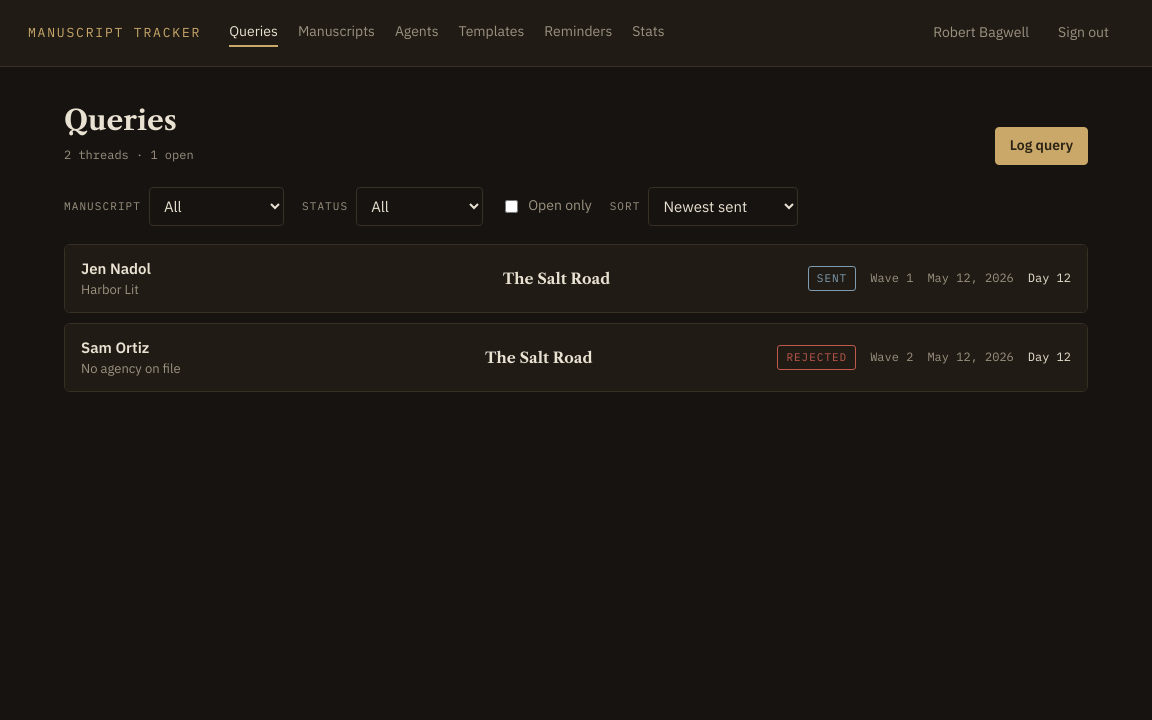
QueriesPage › expands a thread into its correspondence log
This screenshot has width=1152, height=720.
Click the button "Jen Nadol" at (576, 278), box [65,245,1087,312]
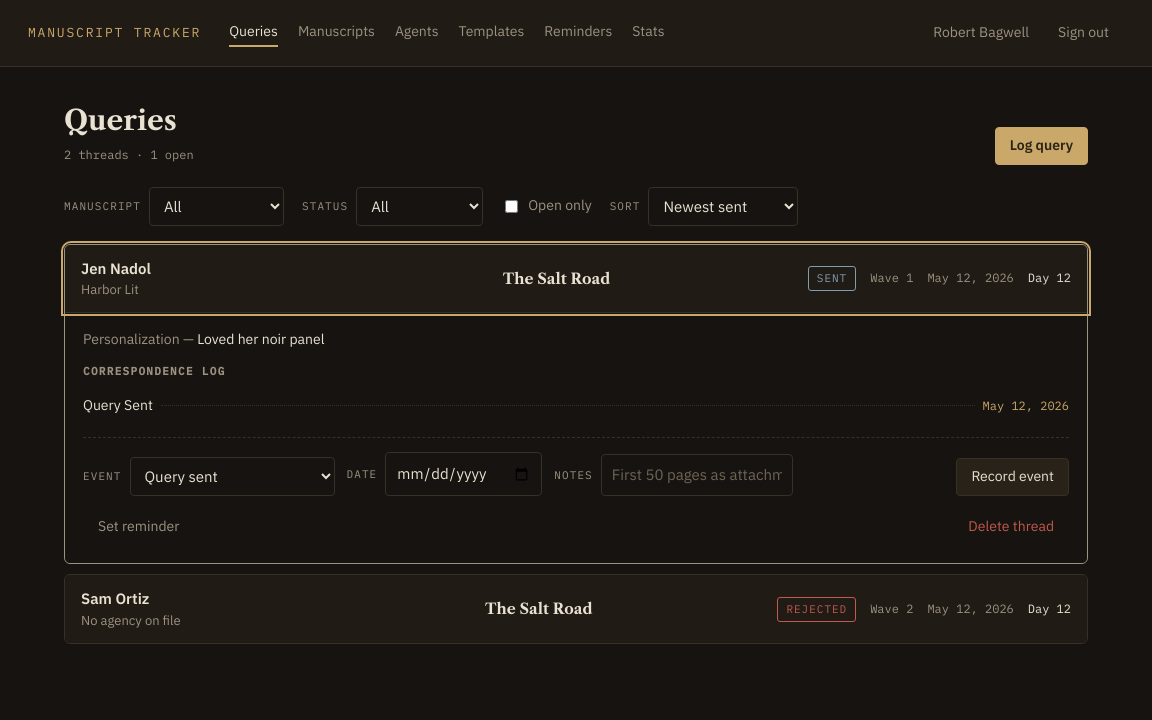
Check: the text "Query Sent" is shown, box [83,395,153,416]
Check: the text "Loved her noir panel" is shown, box [197,330,324,348]
Check: the heading "Correspondence log" is shown, box [83,364,226,378]
Click the button "Jen Nadol" at (576, 278), box [65,245,1087,312]
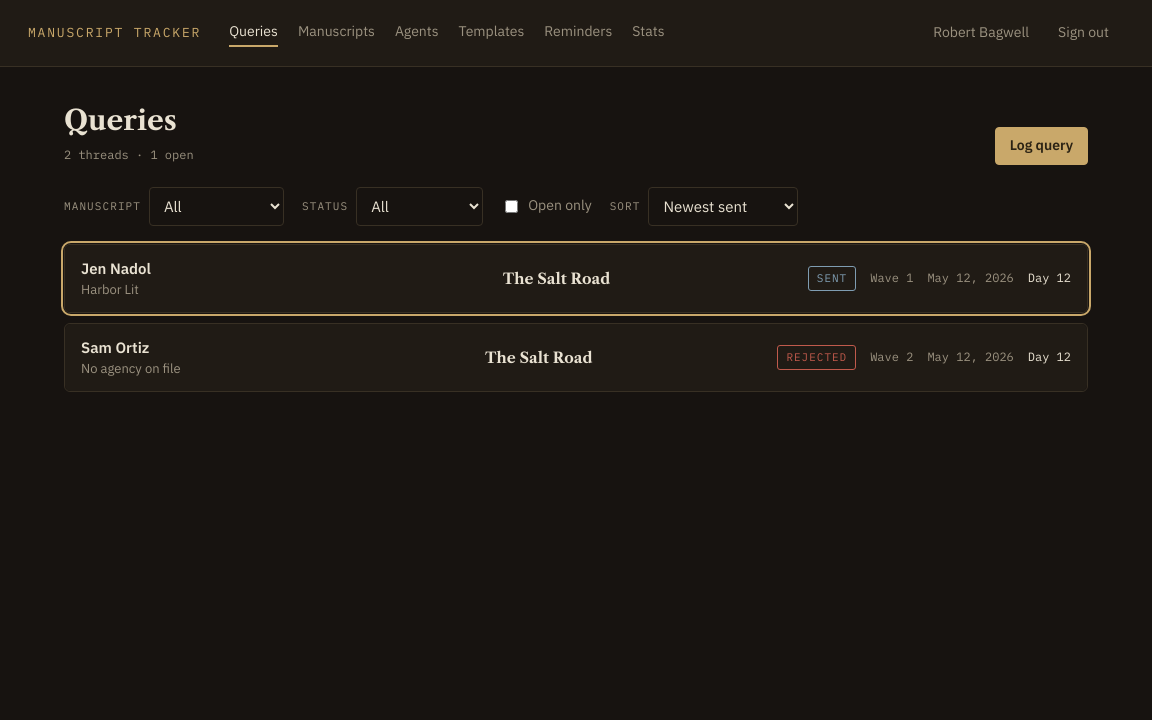
Check: the heading "Correspondence log" is gone
